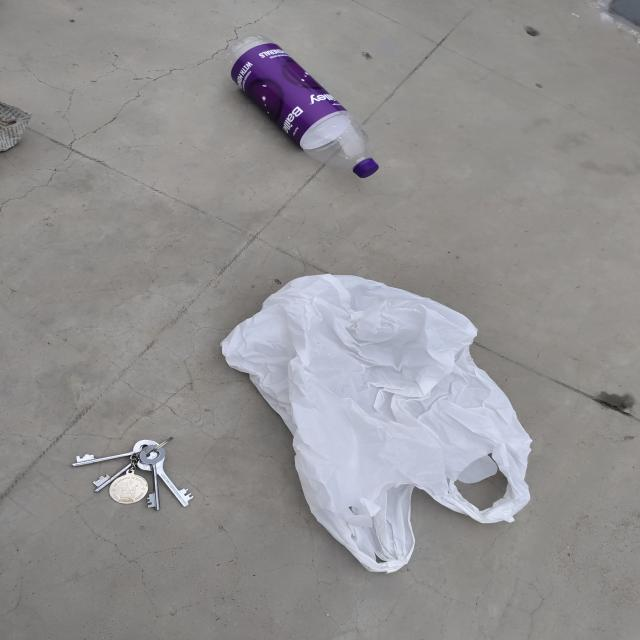metal: (57, 433, 213, 527)
plastic: (231, 260, 565, 587), (177, 36, 431, 186)
